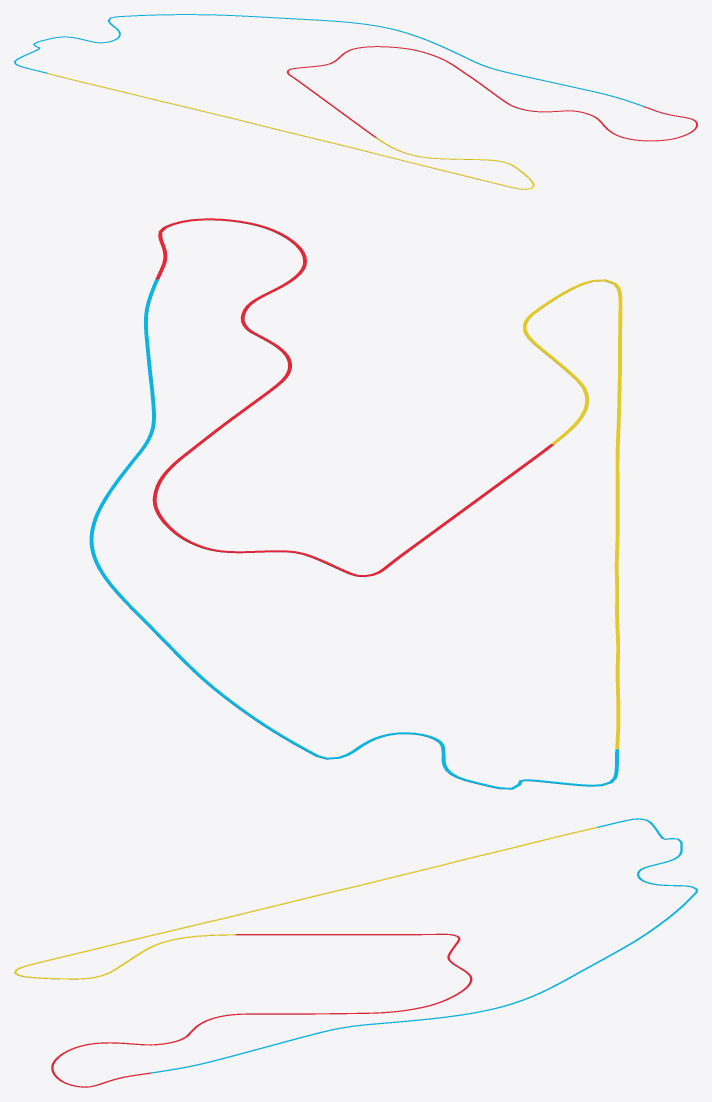
Rendered from MiamiSectors.glb.
The picture shows the model from 3 angles, top to bottom: view 1: azimuth 30°, elevation 25°; view 2: azimuth 150°, elevation 25°; view 3: azimuth 270°, elevation 25°; orthographic projection. The views are drawn at different scales.
Parts seen in each view (by area): view 1: SectorStrip_2, SectorStrip_3, SectorStrip_1; view 2: SectorStrip_1, SectorStrip_2, SectorStrip_3; view 3: SectorStrip_1, SectorStrip_2, SectorStrip_3.
Part boxes in pixels (left/top/right/bottom): SectorStrip_2: left=14, top=14, right=644, bottom=106; SectorStrip_3: left=47, top=73, right=534, bottom=189; SectorStrip_1: left=287, top=46, right=697, bottom=141; SectorStrip_1: left=152, top=218, right=553, bottom=576; SectorStrip_2: left=89, top=279, right=618, bottom=789; SectorStrip_3: left=523, top=279, right=622, bottom=749; SectorStrip_1: left=51, top=933, right=472, bottom=1087; SectorStrip_2: left=150, top=818, right=697, bottom=1073; SectorStrip_3: left=14, top=827, right=597, bottom=979.
Bounding box in the file's own units: 16.2 × 0.006 × 17.39.
